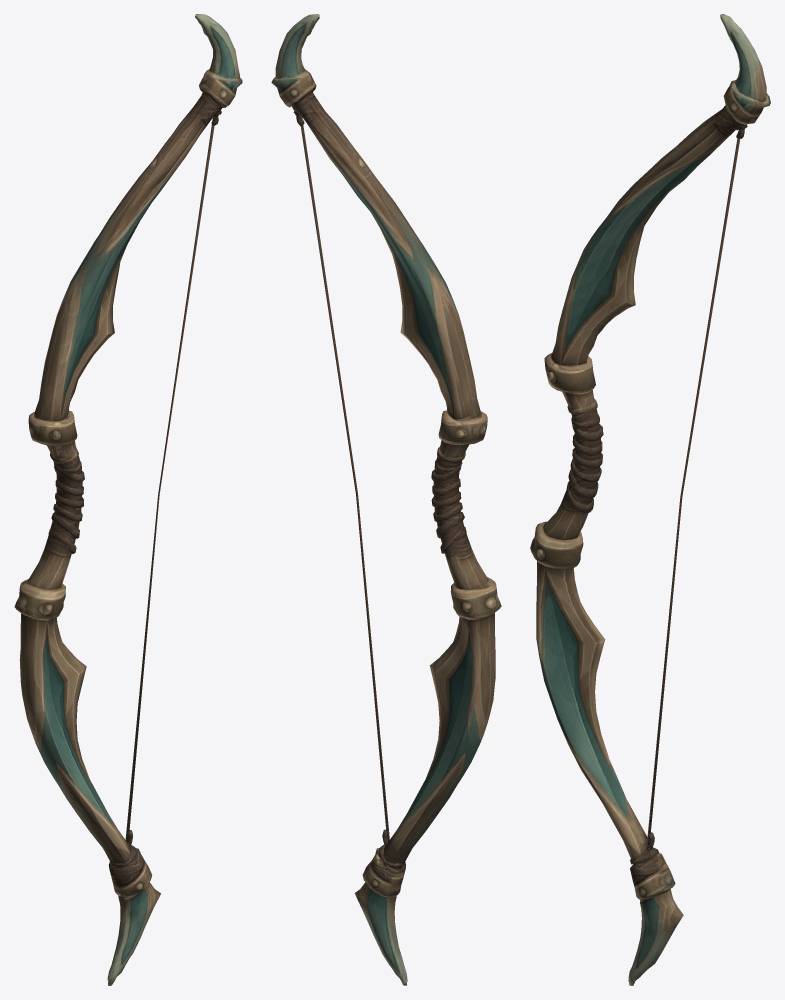
The model's file is hero_batrafian_ranger_weapon.glb.
3 views of the same model, side by side, from view 1: azimuth 30°, elevation 25°; view 2: azimuth 150°, elevation 25°; view 3: azimuth 330°, elevation 25° (orthographic). The views are drawn at different scales.
Bounding box in the file's own units: 0.2495 × 1 × 0.0511.
Materials: 1 (1 with a texture image).
